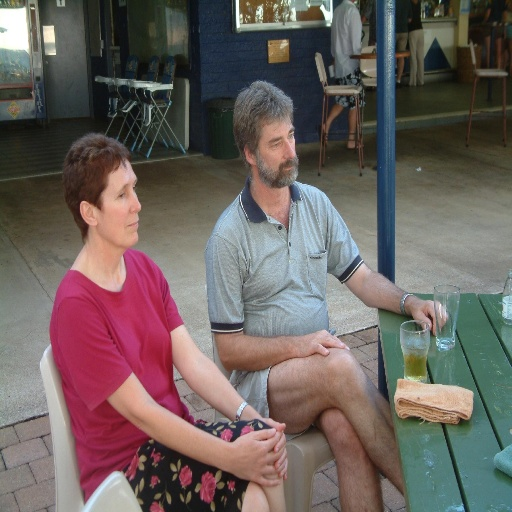hand: (258, 415, 288, 480), (291, 327, 352, 358), (409, 299, 450, 337)
